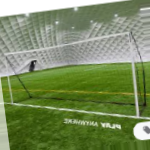goals: (3, 29, 146, 119)
